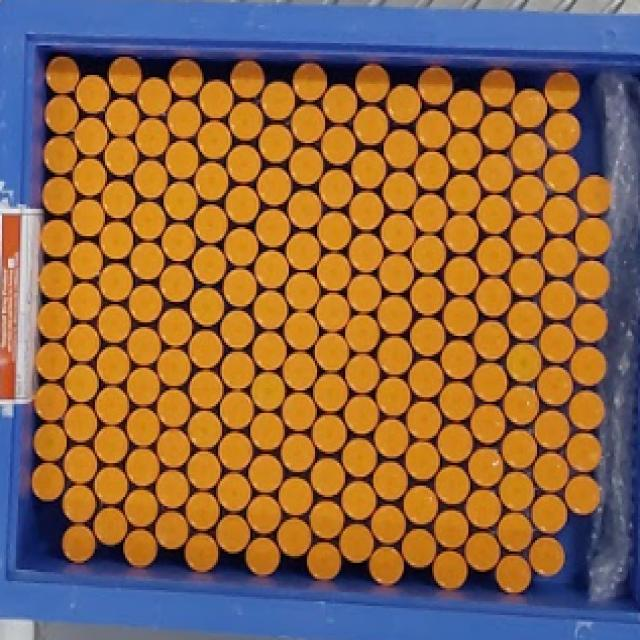vial: (547, 70, 582, 110), (547, 112, 581, 153), (578, 176, 613, 215), (576, 260, 610, 300), (482, 111, 514, 153), (410, 358, 443, 398), (404, 526, 437, 566), (42, 58, 79, 93), (569, 394, 604, 431), (480, 154, 514, 192), (532, 538, 566, 576), (293, 61, 326, 100), (322, 169, 352, 211), (476, 361, 506, 403), (479, 194, 513, 231), (258, 167, 290, 206), (478, 279, 510, 318), (73, 197, 103, 238), (383, 253, 413, 294), (195, 245, 225, 286), (483, 69, 515, 107), (479, 236, 511, 274), (508, 345, 540, 383), (410, 401, 442, 439), (190, 328, 222, 366), (69, 322, 100, 361), (502, 473, 533, 512), (317, 335, 348, 374), (294, 103, 324, 143), (229, 184, 259, 224), (418, 152, 448, 192), (292, 188, 321, 229), (313, 498, 342, 539), (512, 216, 545, 252), (514, 177, 546, 214), (568, 476, 600, 513), (542, 324, 574, 361), (536, 454, 568, 491), (510, 301, 542, 338), (469, 491, 501, 528), (356, 106, 387, 144), (413, 277, 444, 315), (472, 405, 503, 443), (467, 532, 498, 570), (345, 440, 376, 478), (261, 122, 291, 161), (390, 84, 420, 123), (516, 88, 546, 127), (386, 171, 416, 210), (470, 448, 500, 487), (128, 408, 158, 447), (439, 466, 468, 506), (419, 67, 452, 102), (192, 288, 225, 323), (232, 60, 264, 96), (357, 64, 389, 100), (449, 134, 481, 170), (568, 434, 600, 470), (540, 368, 572, 404), (534, 496, 566, 532), (282, 436, 314, 472), (499, 556, 530, 593), (477, 321, 508, 358), (442, 381, 473, 418), (95, 387, 126, 424), (95, 466, 126, 503), (108, 98, 138, 136), (44, 175, 74, 213), (198, 164, 228, 202), (388, 130, 418, 168), (505, 430, 535, 468), (375, 506, 405, 544), (345, 481, 375, 519), (283, 394, 313, 432), (66, 445, 96, 483), (110, 54, 139, 93), (442, 423, 471, 462), (379, 298, 412, 332), (46, 136, 74, 176), (514, 132, 542, 172), (576, 305, 608, 340), (314, 458, 342, 498), (47, 98, 78, 134), (291, 148, 322, 184), (406, 444, 437, 480), (170, 58, 200, 95), (356, 149, 386, 186), (198, 205, 228, 242), (321, 214, 351, 251), (507, 386, 537, 423), (435, 552, 465, 589), (379, 335, 409, 372), (187, 532, 217, 569), (158, 389, 188, 426), (42, 220, 71, 258), (73, 242, 102, 280), (450, 90, 479, 128), (538, 410, 567, 448), (374, 548, 403, 586), (343, 525, 372, 563), (96, 508, 125, 546), (202, 78, 230, 117), (105, 180, 133, 219), (220, 473, 248, 512), (248, 497, 281, 530), (133, 245, 165, 279), (444, 257, 476, 291), (40, 263, 71, 298), (383, 215, 414, 250), (130, 285, 161, 320), (574, 349, 605, 384), (36, 344, 67, 379), (288, 232, 318, 268), (448, 216, 478, 252), (258, 252, 288, 288), (314, 415, 344, 451), (220, 434, 250, 470), (191, 371, 221, 407), (188, 452, 218, 488), (188, 492, 218, 528), (126, 532, 156, 568), (66, 406, 96, 442), (36, 384, 66, 420), (231, 100, 260, 137), (547, 197, 576, 234), (416, 235, 445, 272), (414, 319, 443, 356), (108, 137, 136, 175), (450, 174, 478, 212), (406, 484, 434, 522), (349, 354, 377, 392), (348, 396, 376, 434), (64, 526, 92, 564), (547, 158, 579, 191), (254, 335, 285, 369), (200, 124, 230, 159), (319, 296, 349, 331), (230, 144, 259, 180), (162, 310, 191, 346), (67, 366, 96, 402), (159, 430, 185, 470), (140, 76, 168, 113), (167, 143, 195, 180), (500, 514, 528, 551), (252, 456, 280, 493), (158, 471, 186, 508), (129, 367, 157, 404), (64, 487, 92, 524), (138, 118, 165, 156), (104, 262, 131, 300), (353, 234, 380, 272), (326, 86, 356, 120), (513, 260, 543, 294), (379, 377, 409, 411), (248, 536, 278, 570), (160, 352, 190, 386), (170, 102, 199, 137), (71, 286, 100, 321), (446, 300, 475, 335), (129, 327, 158, 362), (80, 78, 108, 114), (326, 129, 354, 165), (289, 272, 317, 308), (351, 276, 379, 312), (543, 281, 571, 317), (444, 342, 472, 378), (379, 419, 407, 455), (310, 545, 338, 581), (252, 414, 280, 450), (222, 312, 250, 348), (222, 392, 250, 428), (190, 412, 218, 448), (128, 491, 156, 527), (33, 466, 61, 502), (138, 161, 165, 198), (417, 195, 444, 232), (349, 314, 376, 351), (164, 225, 194, 258), (228, 231, 258, 264), (316, 377, 346, 410), (103, 224, 132, 258), (577, 221, 606, 255), (320, 255, 348, 290), (377, 464, 405, 499), (100, 347, 128, 382), (97, 427, 125, 462), (136, 204, 163, 240), (166, 183, 193, 219), (547, 238, 574, 274), (353, 193, 380, 229), (283, 478, 310, 514), (252, 376, 282, 408), (217, 517, 247, 549), (34, 427, 64, 459), (227, 271, 255, 305), (40, 304, 68, 338), (256, 292, 284, 326), (436, 510, 464, 544), (287, 315, 315, 349), (223, 353, 251, 387), (129, 452, 157, 486), (260, 210, 287, 245), (102, 305, 129, 340), (79, 120, 108, 152), (157, 513, 185, 546), (282, 522, 309, 556), (164, 264, 190, 299), (286, 354, 312, 389), (420, 112, 448, 144), (77, 161, 103, 195), (265, 82, 291, 116)
